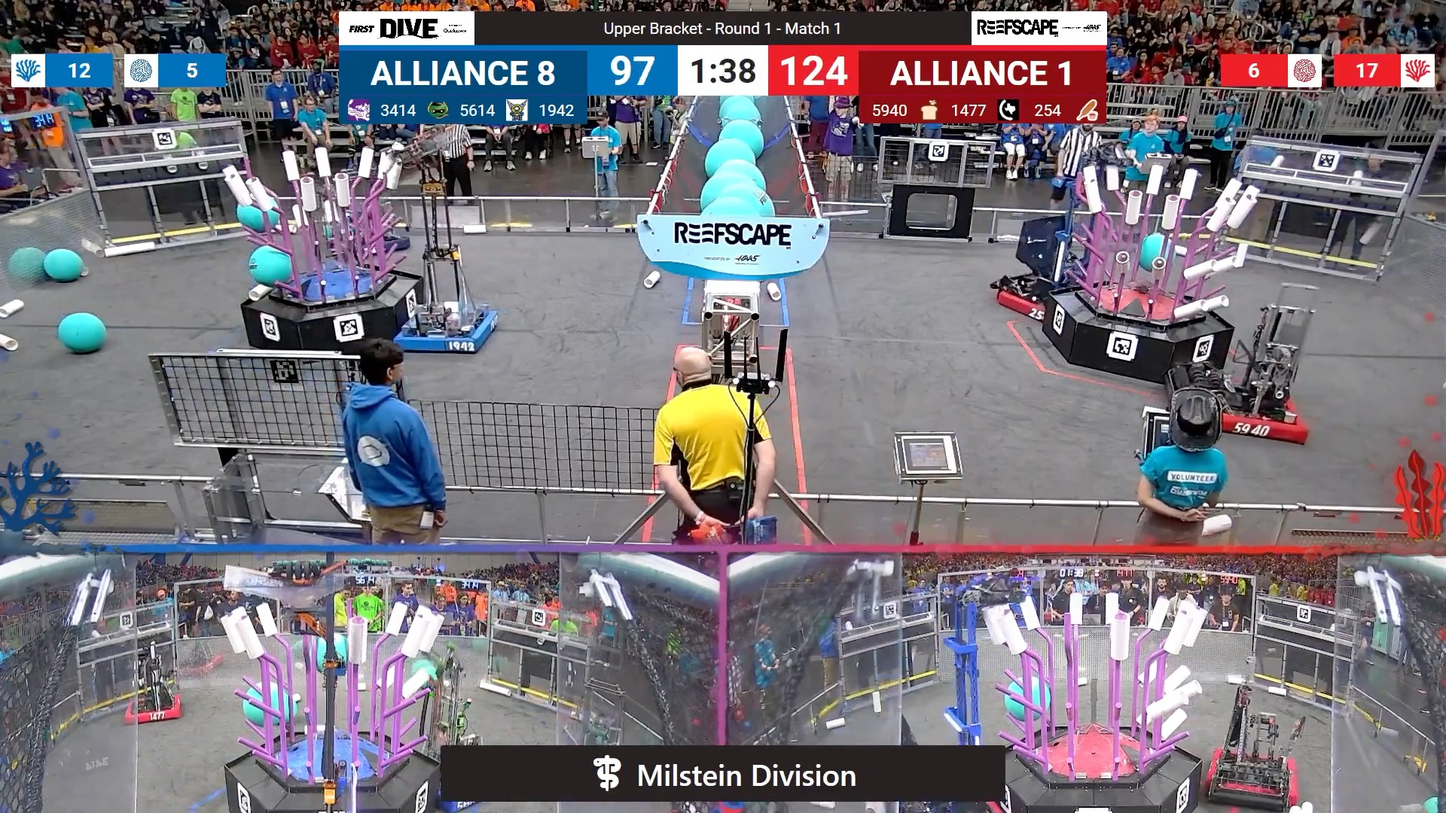bumpers: (1168, 374, 1318, 449), (1198, 744, 1304, 813), (390, 305, 506, 360), (985, 274, 1052, 331), (116, 692, 188, 727)
